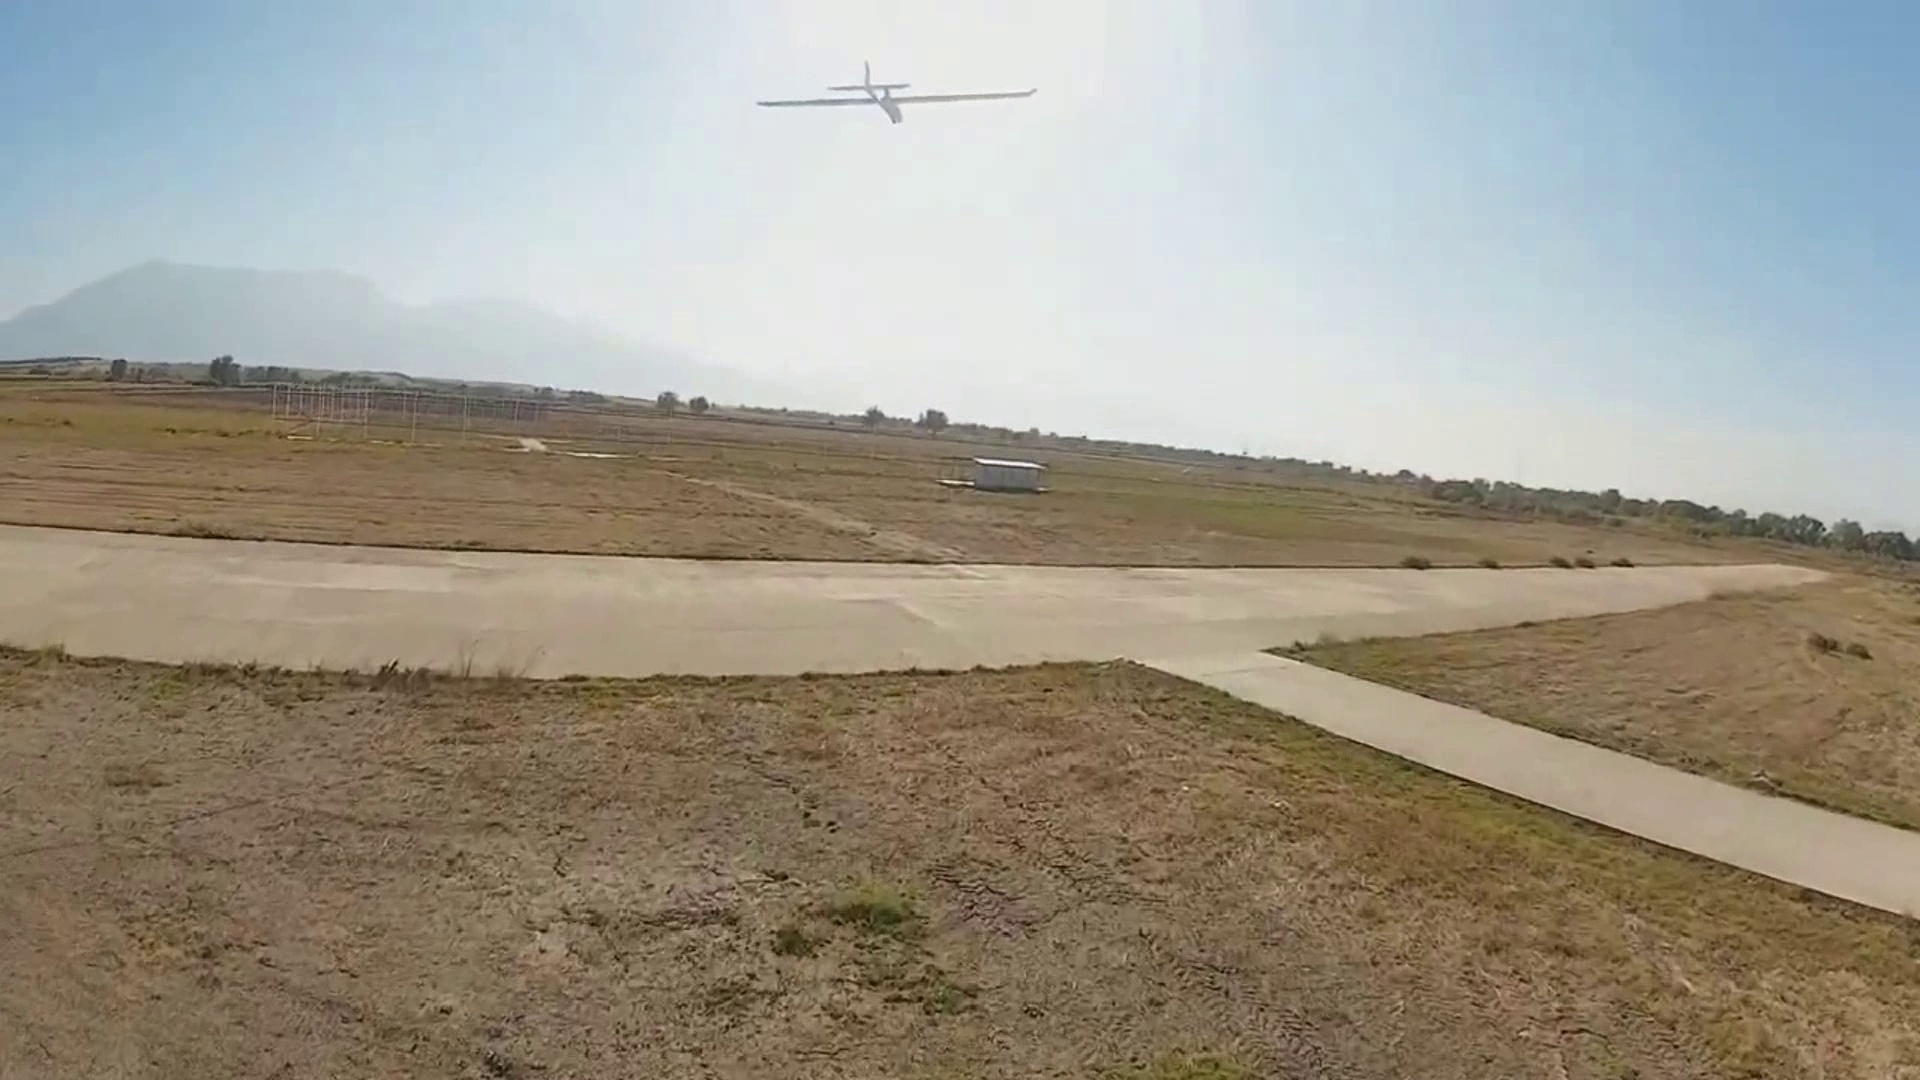airplane: (756, 65, 1041, 122)
